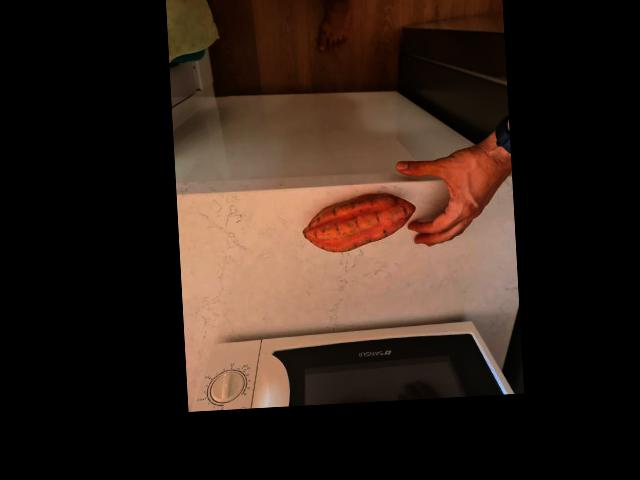sweet_potato: (296, 189, 415, 256)
